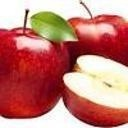apple: (61, 14, 128, 79)
